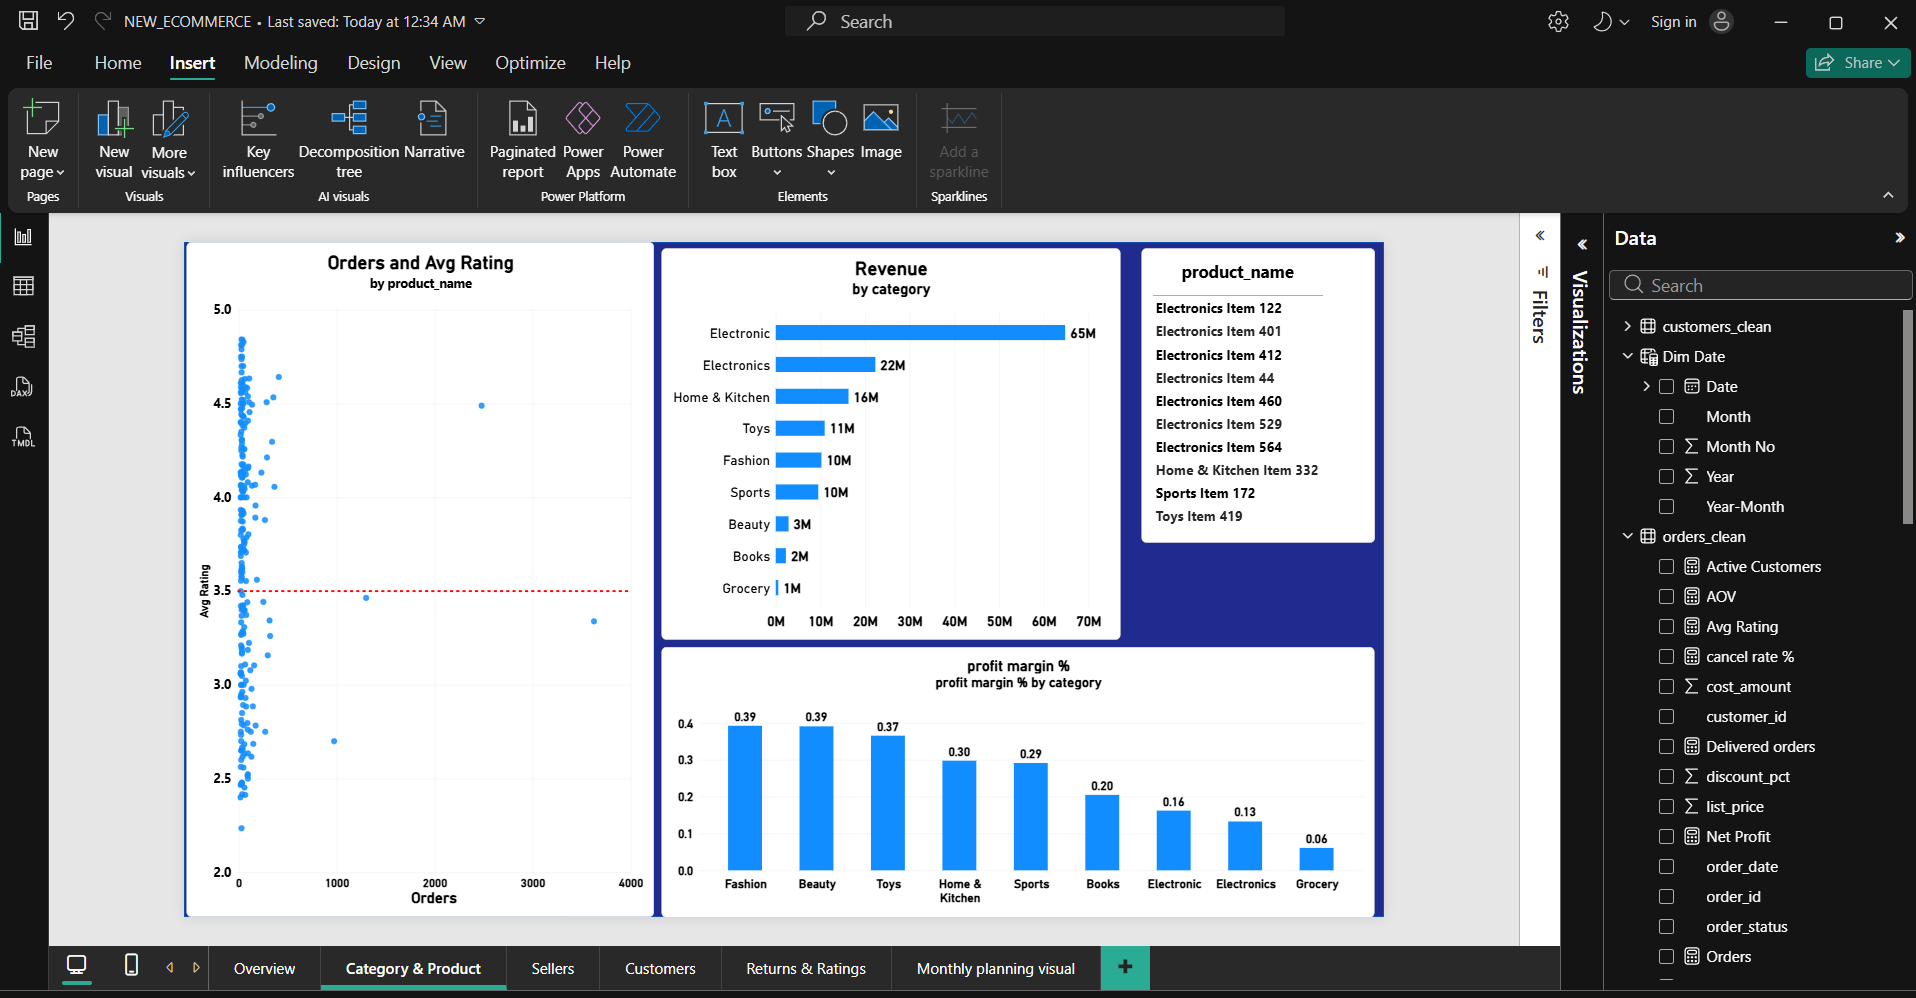

Layout of this report page (visuals, bound fields, positions):
{"tool":"powerbi","page":{"name":"Category & Product","canvas":[1920,1080],"ordinal":1},"visuals":[{"type":"shape","box":[0,0,1920,1080],"z":0},{"type":"barChart","fields":{"Category":["products_clean.category"],"Y":["orders_clean.Revenue"]},"box":[764,10,734,626],"z":1000},{"type":"columnChart","title":"profit margin %","fields":{"Category":["products_clean.category"],"Y":["orders_clean.profit margin %"]},"box":[763.8,647.9,1141.1,432.5],"z":2000},{"type":"scatterChart","fields":{"Category":["products_clean.product_name"],"X":["orders_clean.Orders"],"Y":["orders_clean.Avg Rating"]},"box":[4,0,748,1080],"z":3000},{"type":"tableEx","fields":{"Values":["products_clean.product_name"]},"box":[1531.3,9.2,373.6,471.2],"z":4000}]}

Visuals, with their boxes on the page's 1920x1080 design canvas (x1, y1, x2, y2). These are canvas units, not pixel positions in the 1916x998 screenshot, which may show the page scaled, cropped or inside an application window:
shape: locate(0, 0, 1920, 1080)
barChart - products_clean.category x orders_clean.Revenue: locate(764, 10, 1498, 636)
"profit margin %" columnChart: locate(764, 648, 1905, 1080)
scatterChart - products_clean.product_name x orders_clean.Orders: locate(4, 0, 752, 1080)
tableEx - products_clean.product_name: locate(1531, 9, 1905, 480)
